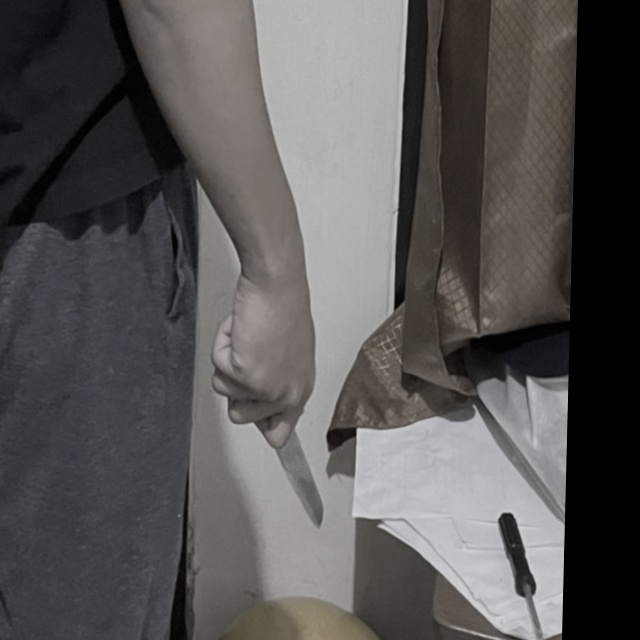Sharp-Object: (264, 411, 328, 531)
